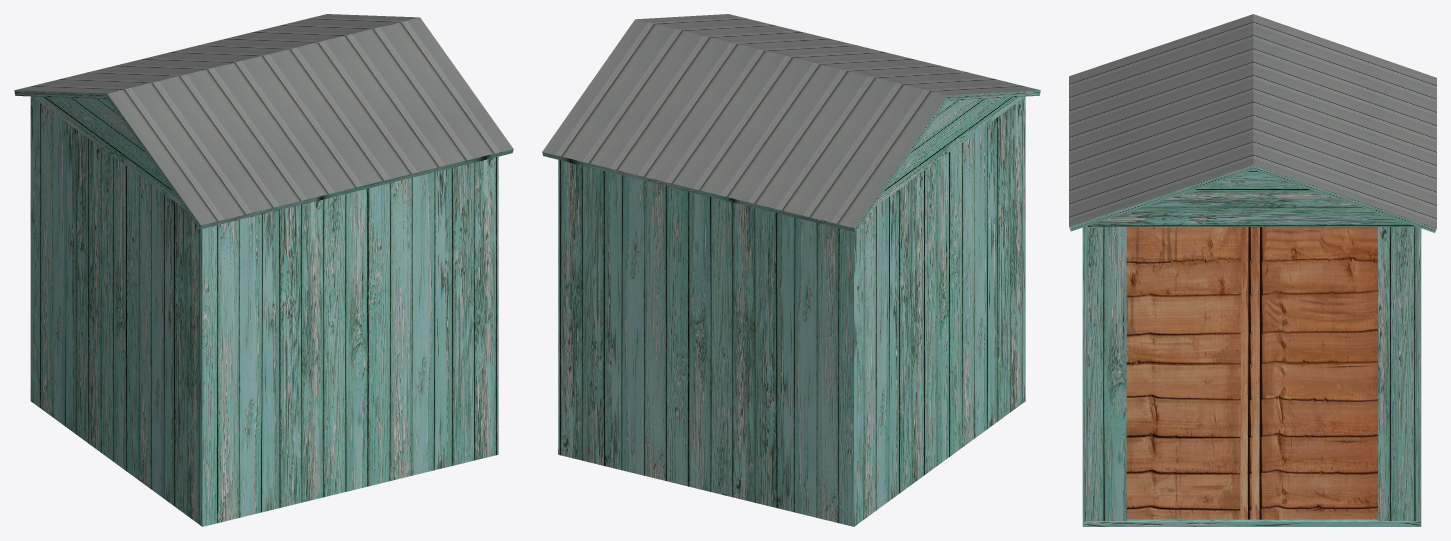
File: Tool_Shed.fbx
3 views of the same model, side by side, from view 1: azimuth 30°, elevation 25°; view 2: azimuth 150°, elevation 25°; view 3: azimuth 270°, elevation 25° (orthographic).
Visible parts, largest first — view 1: Tool_Shed; view 2: Tool_Shed; view 3: Tool_Shed, Door_Right, Door_Left.
Part boxes in pixels (left/top/right/bottom): Tool_Shed: left=14, top=14, right=513, bottom=526; Tool_Shed: left=542, top=14, right=1040, bottom=526; Tool_Shed: left=1069, top=14, right=1436, bottom=526; Door_Right: left=1251, top=227, right=1377, bottom=519; Door_Left: left=1126, top=227, right=1250, bottom=519.
Size of the model in its own units: 3.17 by 3.6 by 3.27.
4 materials, 4 textured.
